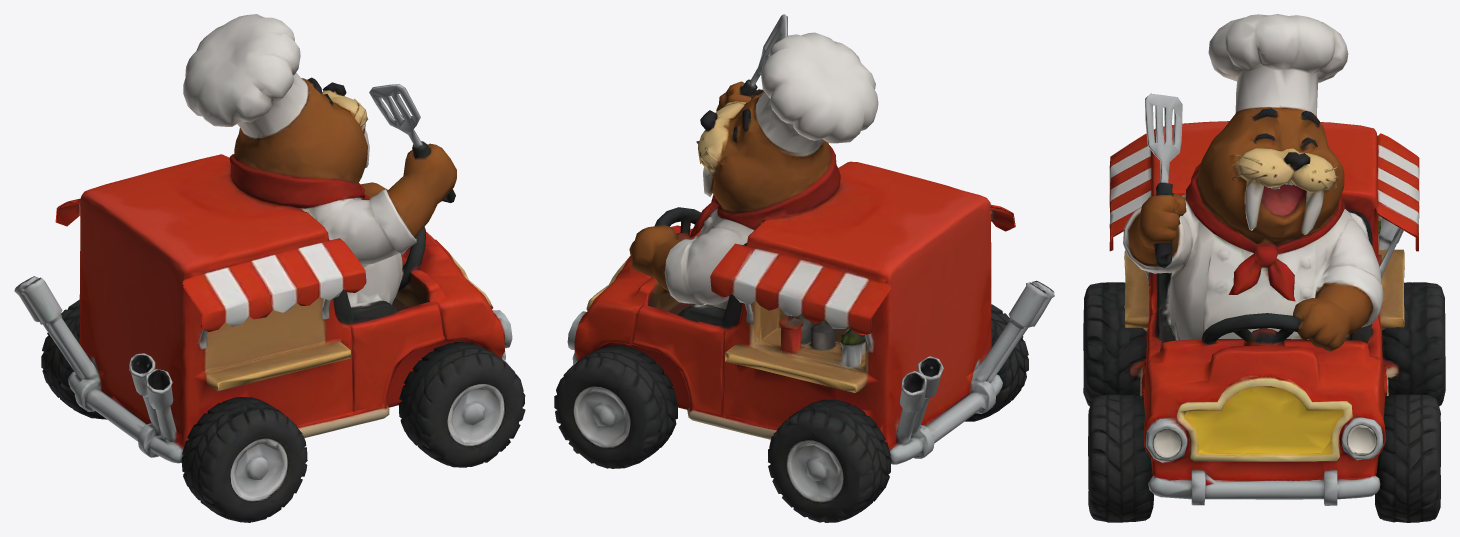
The model's file is gus.glb.
3 renders of one model, left to right at view 1: azimuth 30°, elevation 25°; view 2: azimuth 150°, elevation 25°; view 3: azimuth 270°, elevation 25°, orthographic. The views are drawn at different scales.
Parts seen in each view (by area): view 1: tripo_node_4fab809d-d0fc-414d-9b80-4223fae99385; view 2: tripo_node_4fab809d-d0fc-414d-9b80-4223fae99385; view 3: tripo_node_4fab809d-d0fc-414d-9b80-4223fae99385.
Part boxes in pixels (<box>): tripo_node_4fab809d-d0fc-414d-9b80-4223fae99385: <box>14,14,525,522</box>; tripo_node_4fab809d-d0fc-414d-9b80-4223fae99385: <box>554,14,1054,522</box>; tripo_node_4fab809d-d0fc-414d-9b80-4223fae99385: <box>1083,14,1445,522</box>.
Bounding box in the file's own units: 0.9974 × 1 × 0.7513.
1 material, 1 textured.
